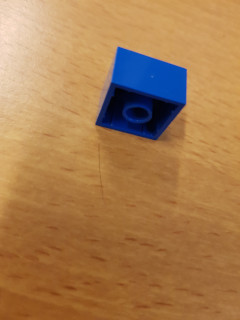2x2 blue: (94, 45, 189, 143)
